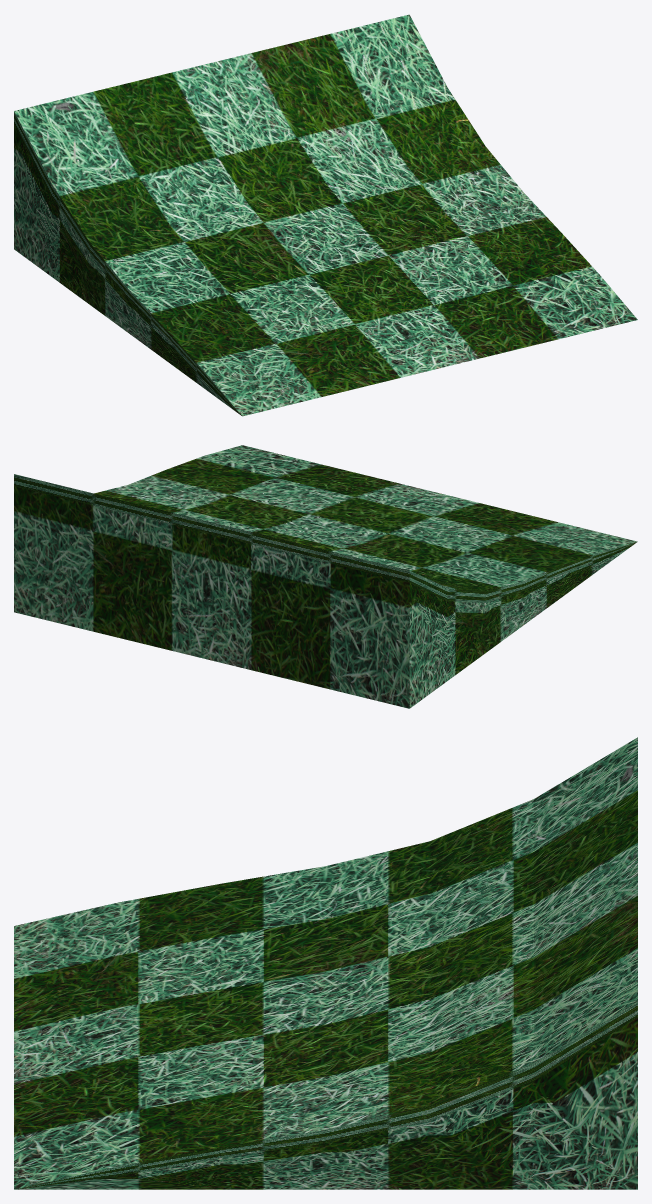
File: Floor11RampUp.fbx
The picture shows the model from 3 angles, top to bottom: view 1: azimuth 30°, elevation 25°; view 2: azimuth 150°, elevation 25°; view 3: azimuth 270°, elevation 25°; orthographic projection. The views are drawn at different scales.
Visible parts, largest first — view 1: Floor.011RampUp; view 2: Floor.011RampUp; view 3: Floor.011RampUp.
Boxes of the visible parts, x1,y1,x2,y2 form: Floor.011RampUp: (14,14,637,416); Floor.011RampUp: (14,445,637,708); Floor.011RampUp: (14,737,637,1189).
Size of the model in its own units: 150 by 50.11 by 150.
